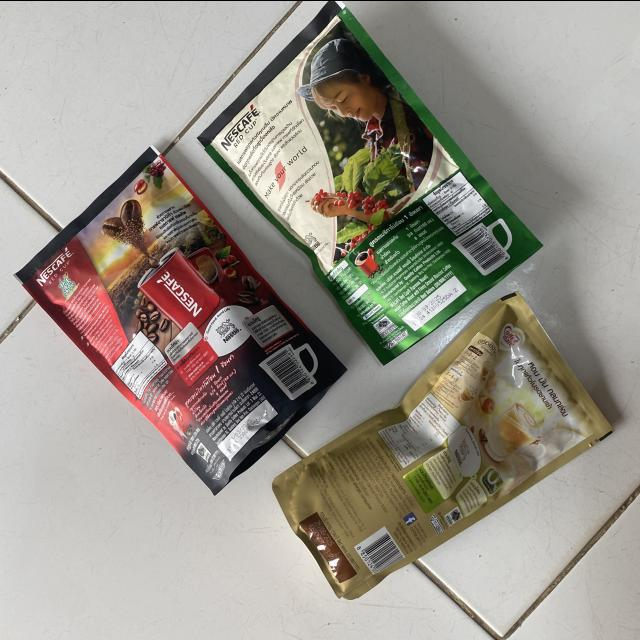plastik: (199, 0, 541, 362), (16, 146, 346, 492), (272, 293, 612, 599)
